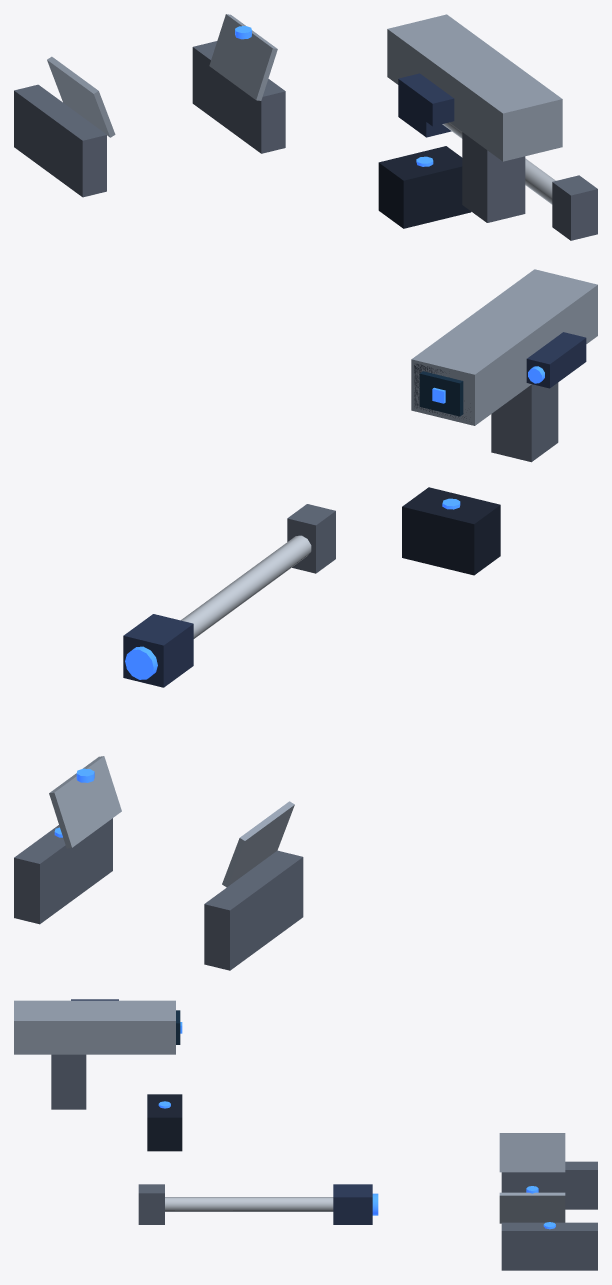
File: tower_lance_range_s7.glb
3 views of the same model, one above another, from view 1: azimuth 30°, elevation 25°; view 2: azimuth 150°, elevation 25°; view 3: azimuth 270°, elevation 25° (orthographic). The views are drawn at different scales.
Visible parts, largest first — view 1: lance_optic_long, lance_shroud_ext_r, lance_optic_shade_deep, lance_shroud_ext_l, lance_optic_riser, lance_stab_fin_l, lance_designator_mount, lance_stab_fin_r, lance_rangefinder, lance_designator_boom, lance_designator_head; view 2: lance_optic_long, lance_shroud_ext_r, lance_optic_shade_deep, lance_shroud_ext_l, lance_optic_riser, lance_stab_fin_l, lance_designator_boom, lance_designator_head, lance_designator_mount, lance_stab_fin_r, lance_rangefinder, lance_optic_long_lens; view 3: lance_optic_long, lance_shroud_ext_l, lance_shroud_ext_r, lance_stab_fin_r, lance_designator_boom, lance_stab_fin_l, lance_optic_shade_deep, lance_optic_riser, lance_designator_head, lance_designator_mount.
Boxes of the visible parts, box(x1,y1,x2,y2) form: lance_optic_long: box(387, 14, 562, 161); lance_shroud_ext_r: box(14, 84, 106, 197); lance_optic_shade_deep: box(378, 146, 471, 228); lance_shroud_ext_l: box(192, 41, 285, 153); lance_optic_riser: box(462, 132, 525, 222); lance_stab_fin_l: box(209, 14, 277, 100); lance_designator_mount: box(552, 175, 597, 240); lance_stab_fin_r: box(47, 56, 115, 137); lance_rangefinder: box(398, 73, 454, 126); lance_designator_boom: box(442, 122, 555, 204); lance_designator_head: box(398, 101, 451, 137); lance_optic_long: box(411, 269, 597, 425); lance_shroud_ext_r: box(204, 850, 303, 970); lance_optic_shade_deep: box(402, 487, 500, 575); lance_shroud_ext_l: box(14, 818, 112, 924); lance_optic_riser: box(491, 382, 558, 462); lance_stab_fin_l: box(49, 756, 121, 848); lance_designator_boom: box(181, 535, 311, 638); lance_designator_head: box(123, 614, 193, 687); lance_designator_mount: box(287, 504, 335, 573); lance_stab_fin_r: box(222, 801, 294, 887); lance_rangefinder: box(526, 332, 586, 388); lance_optic_long_lens: box(419, 371, 463, 416); lance_optic_long: box(14, 1000, 175, 1054); lance_shroud_ext_l: box(501, 1222, 597, 1270); lance_shroud_ext_r: box(501, 1161, 597, 1209); lance_stab_fin_r: box(499, 1133, 565, 1172); lance_designator_boom: box(165, 1197, 333, 1211); lance_stab_fin_l: box(499, 1192, 565, 1223); lance_optic_shade_deep: box(147, 1094, 182, 1151); lance_optic_riser: box(51, 1054, 86, 1109); lance_designator_head: box(333, 1184, 372, 1224); lance_designator_mount: box(138, 1184, 164, 1224).
Bounding box in the file's own units: 0.965 × 1.14 × 2.67.
